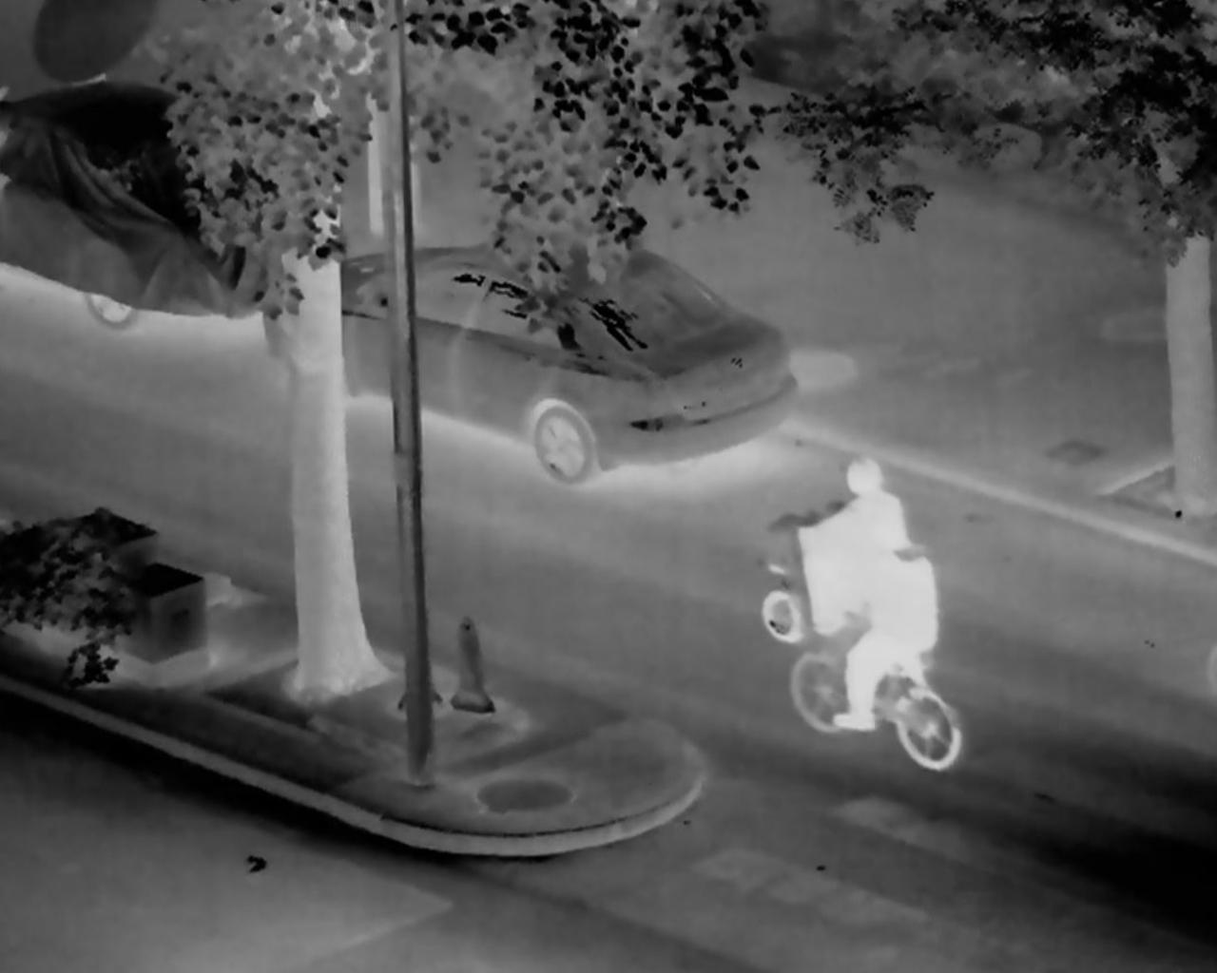person: (781, 459, 902, 635), (834, 535, 937, 735)
